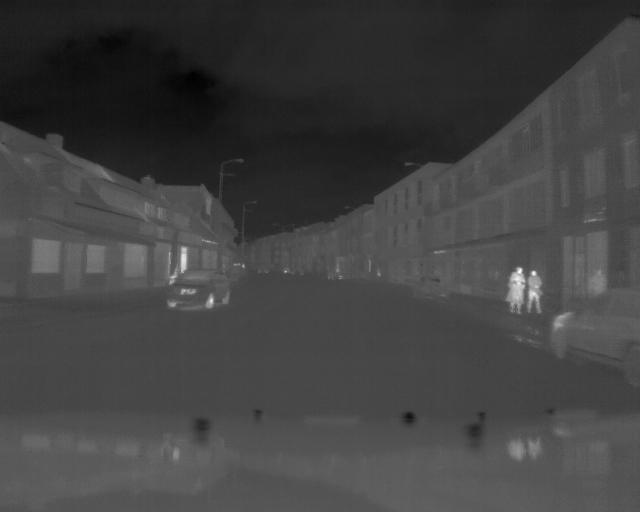car: (551, 291, 640, 385), (162, 268, 233, 314)
person: (504, 264, 525, 313), (529, 263, 544, 316)
